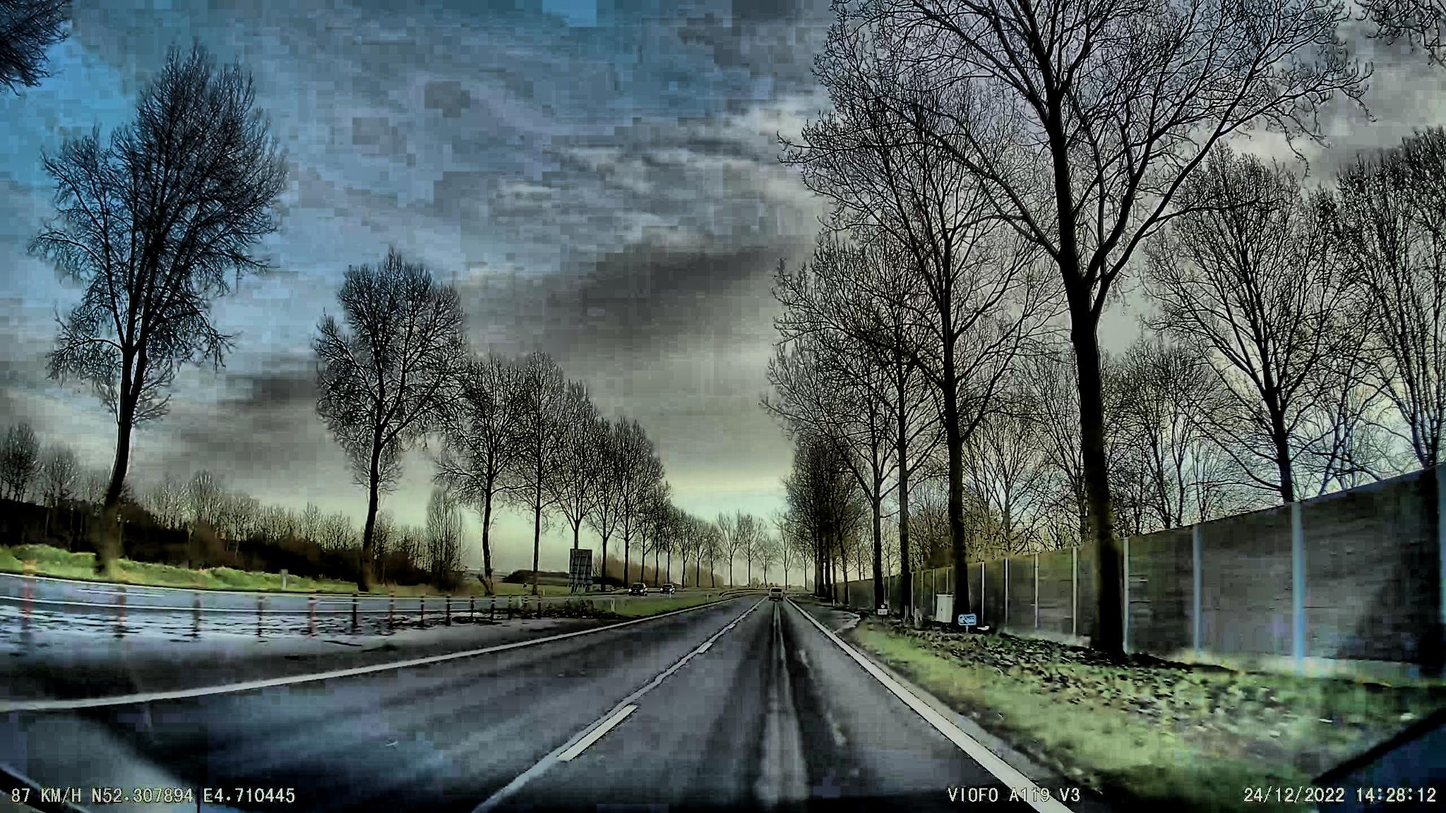Roads: (0, 600, 1053, 813)
